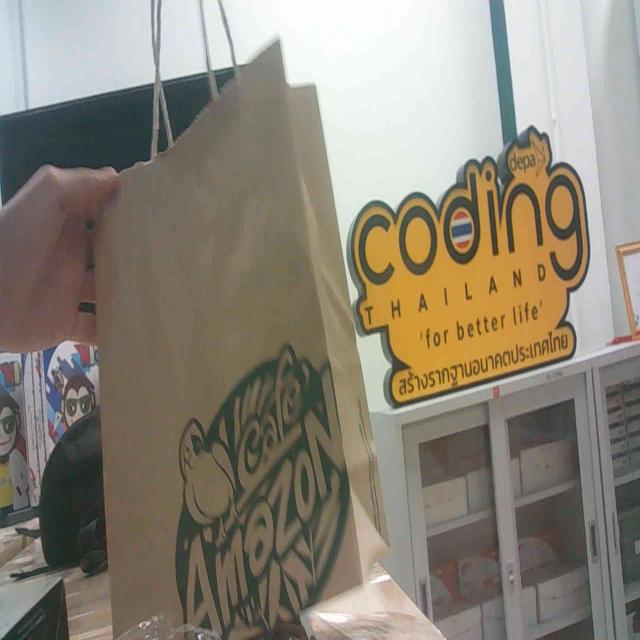bag: (88, 139, 371, 640)
